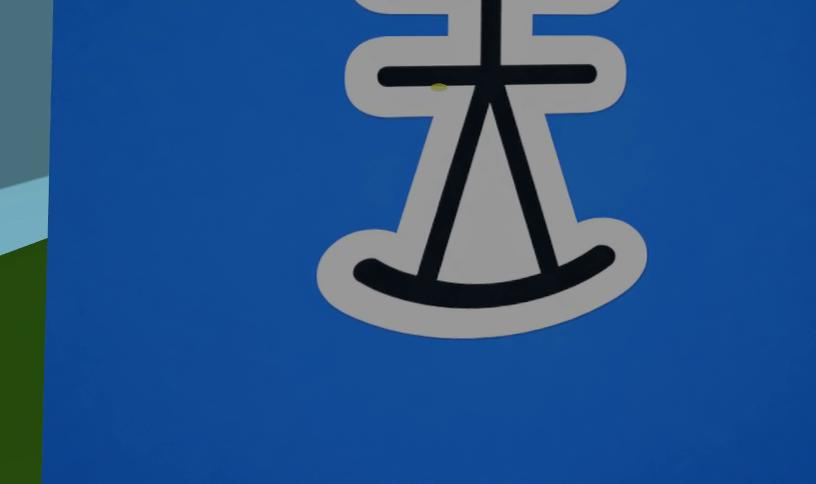KFS_REAL: (42, 0, 816, 483), (324, 0, 643, 337)
